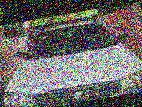car: (0, 13, 142, 107)
